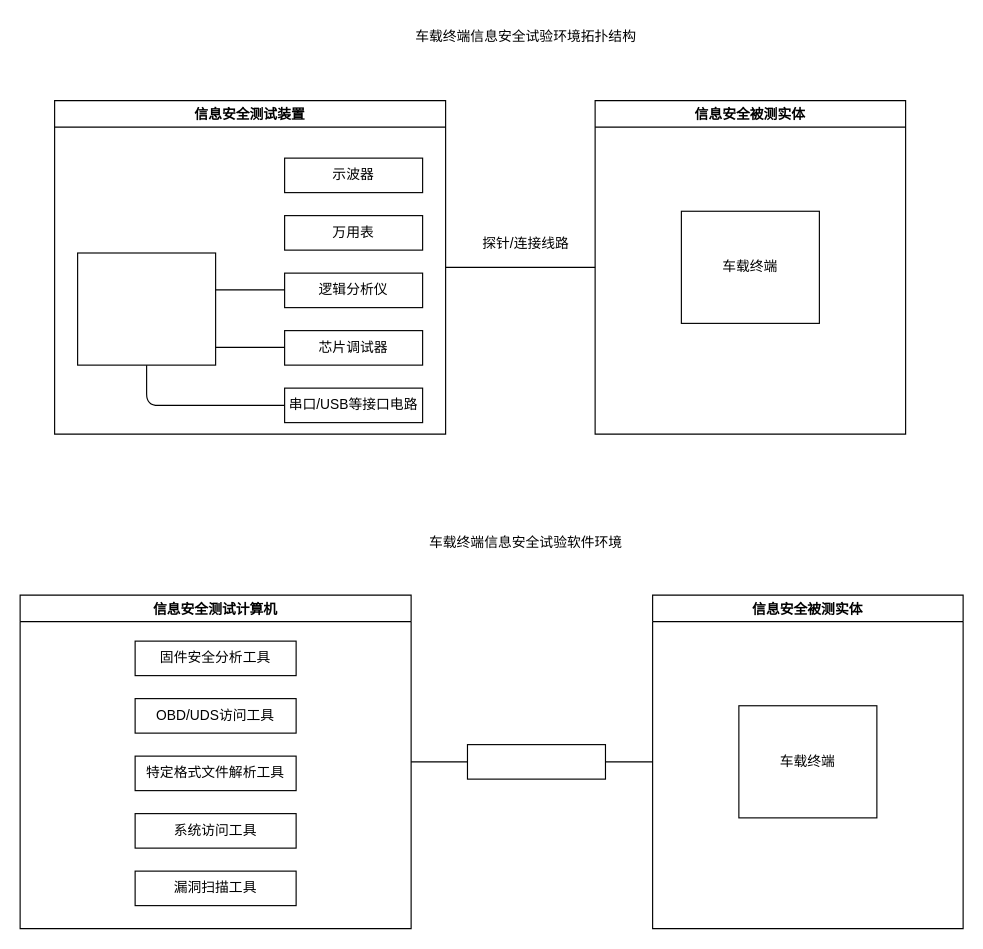
The diagram is 983 pixels wide and 949 high, and some of its shapes have lost their labels. The shapes that lost their labels are listed below. From the top down, each one's centre as x and y in pixels, then its label:
the point at 146,308: 装有测试软件的 计算机
the point at 535,761: 各类数据通信连接
